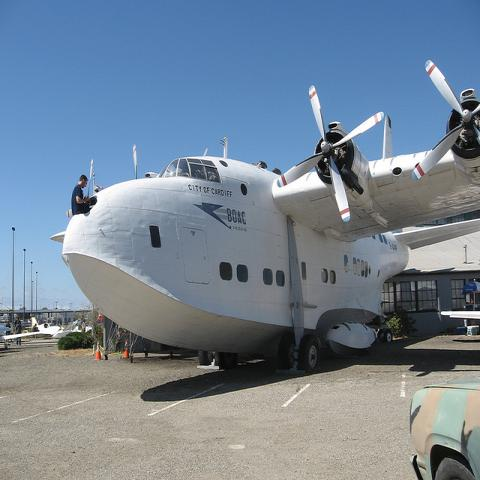truck: (409, 376, 479, 479)
